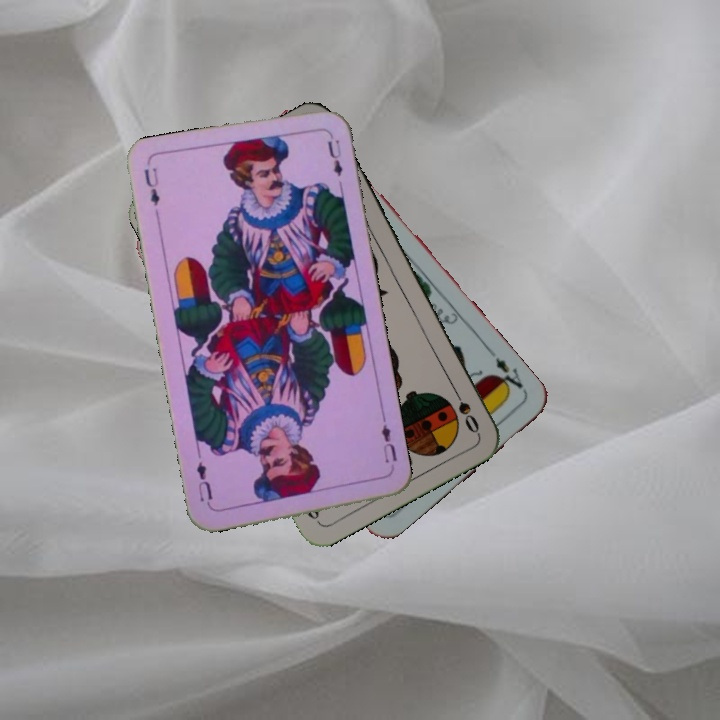EA: (488, 352, 530, 396)
EU: (377, 415, 400, 474), (140, 163, 162, 221)
SO: (447, 381, 482, 436)
